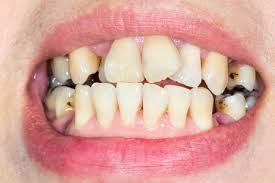decay: (227, 61, 253, 92), (214, 93, 244, 118), (55, 87, 73, 115)
normal: (142, 36, 180, 83), (103, 37, 140, 83), (172, 39, 200, 88), (142, 83, 166, 136), (200, 49, 226, 96), (116, 82, 142, 124), (92, 83, 116, 126), (167, 82, 190, 124), (191, 86, 213, 126), (73, 83, 92, 128), (53, 57, 69, 82)
rough: (98, 57, 109, 83)
yellow: (70, 47, 98, 84)
